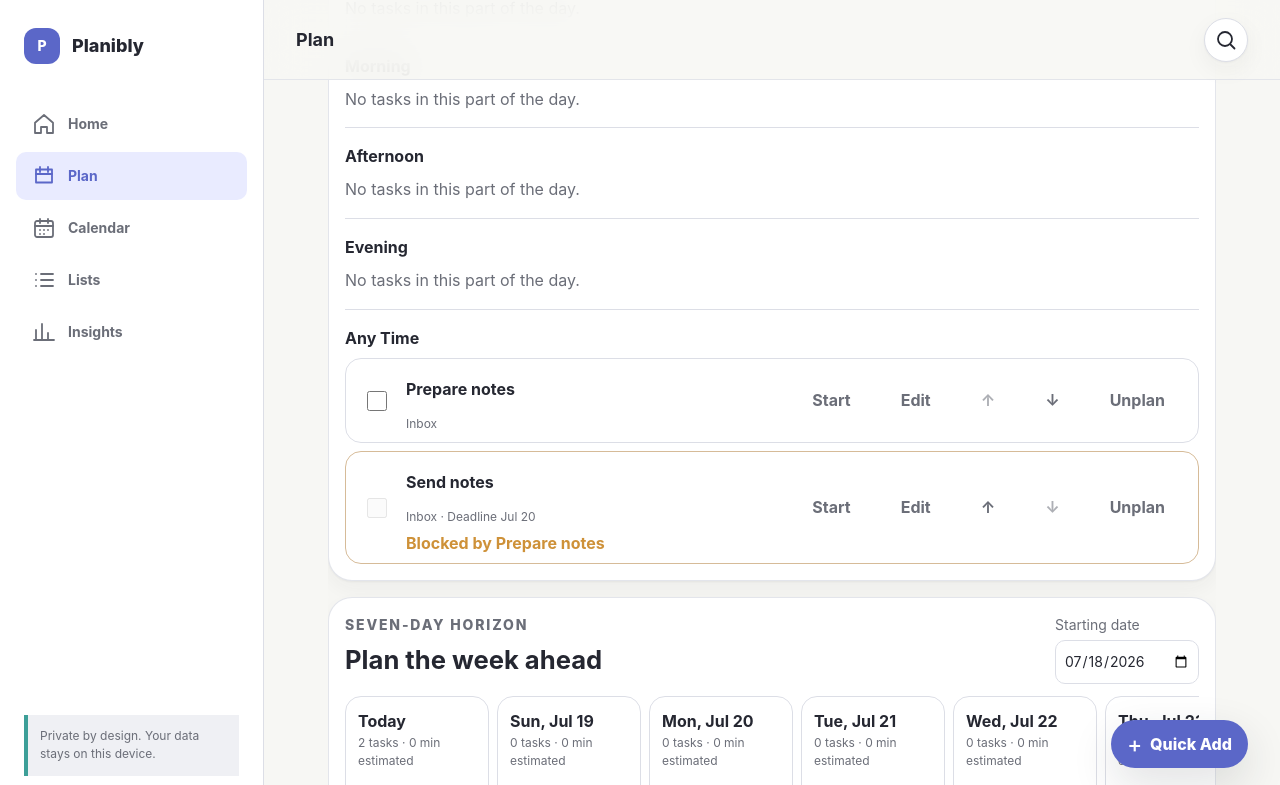
it: Phase 2A planning interface › renders the functional Plan sections and respects blocking while completing
(page scrolled)
Check: the button "Prepare notes" below "Any Time" is shown, box [406,367,779,411]
Check: the button "Send notes" is shown, box [406,460,779,504]
Click the 1st checkbox named "Complete Prepare notes". click: (376, 401)
box: [366,391,386,411]
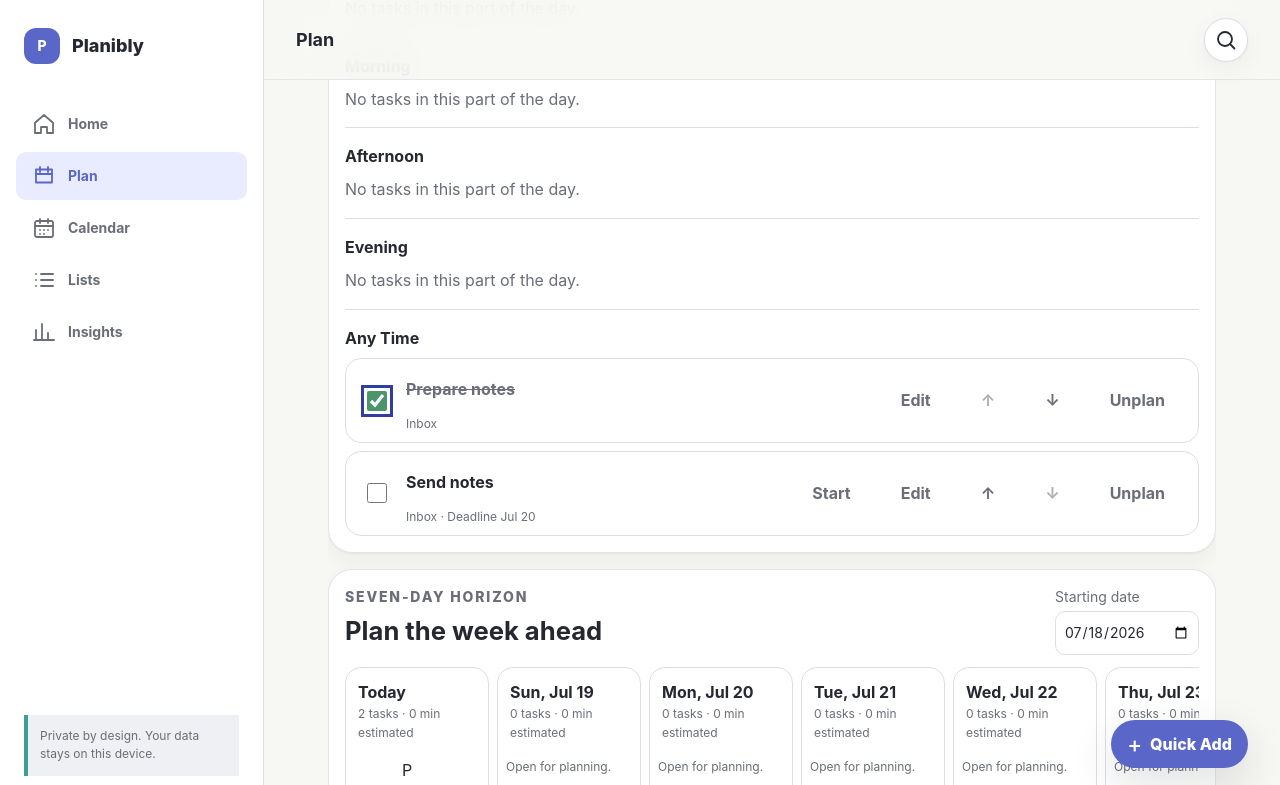
Check: the 2nd checkbox named "Complete Send notes" is enabled, box [366,483,386,503]
